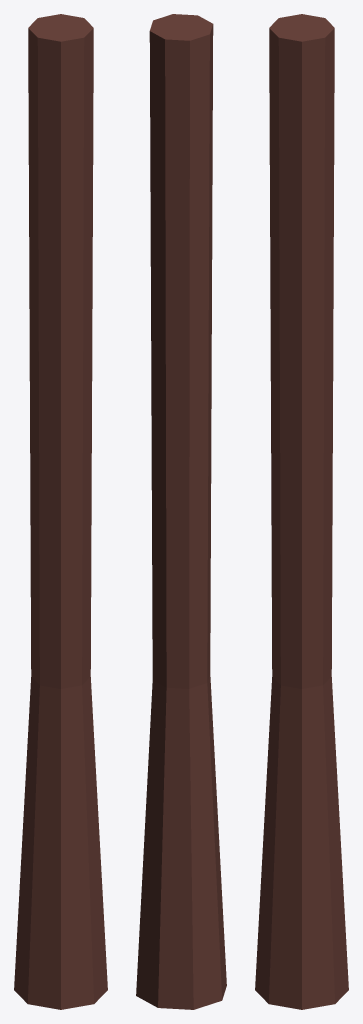
Rendered from LongTree.fbx.
The picture shows the model from 3 angles, left to right: view 1: azimuth 90°, elevation 25°; view 2: azimuth 150°, elevation 25°; view 3: azimuth 270°, elevation 25°; orthographic projection.
Visible parts, largest first — view 1: Tree1; view 2: Tree1; view 3: Tree1.
Boxes of the visible parts, x1,y1,x2,y2 form: Tree1: [14, 14, 107, 1009]; Tree1: [136, 14, 226, 1009]; Tree1: [255, 14, 348, 1009].
Bounding box in the file's own units: 286 × 3237 × 286.
